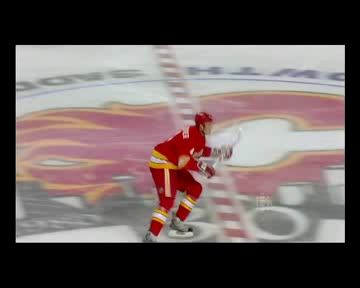normal: (140, 104, 245, 242)
